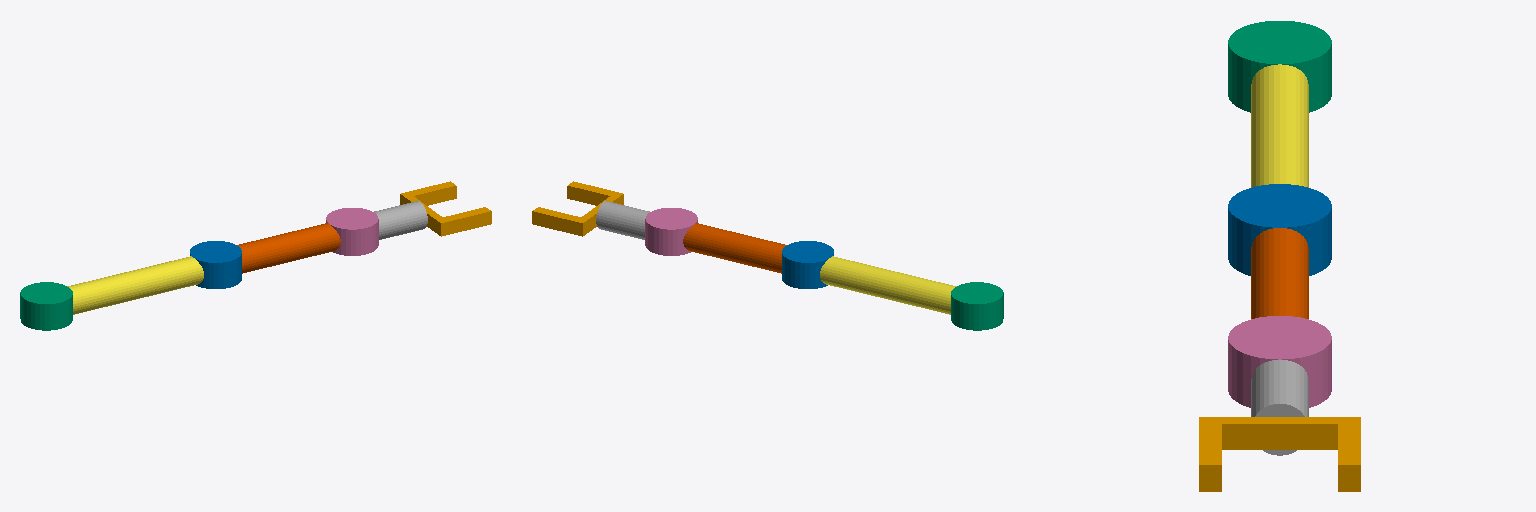
robot.urdf — manipulator2d:
<?xml version="1.0" ?>
<!-- =================================================================================== -->
<!-- |    This document was autogenerated by xacro from manipulator2d.xacro            | -->
<!-- |    EDITING THIS FILE BY HAND IS NOT RECOMMENDED                                 | -->
<!-- =================================================================================== -->
<!-- Manipulator 2D robot (based on Revolute-Revolute Manipulator) -->
<robot name="manipulator2d" xmlns:xacro="http://www.ros.org/wiki/xacro">
  <!--&lt;!&ndash; Import all Gazebo-customization elements, including Gazebo colors &ndash;&gt;-->
  <!--<xacro:include filename="$(find manipulator2d_description)/urdf/manipulator2d.gazebo" />-->
  <!--&lt;!&ndash; Import Rviz colors &ndash;&gt;-->
  <!--<xacro:include filename="$(find manipulator2d_description)/urdf/materials.xacro" />-->
  <!-- Used for fixing robot to Gazebo 'base_link' -->
  <link name="world"/>
  <!--<joint name="fixed" type="fixed">-->
  <!--<parent link="world"/>-->
  <!--<child link="link1"/>-->
  <!--<origin xyz="0 0 ${base_z}" rpy="0 0 0"/>-->
  <!--</joint>-->
  <joint name="fixed" type="fixed">
    <parent link="world"/>
    <child link="base_link"/>
    <origin rpy="0 0 0" xyz="0 0 0.0"/>
  </joint>
  <link name="base_link">
    <collision>
      <origin rpy="0 0 0" xyz="0 0 0.005"/>
      <geometry>
        <cylinder length="0.01" radius="0.01"/>
      </geometry>
    </collision>
    <visual>
      <origin rpy="0 0 0" xyz="0 0 0.005"/>
      <geometry>
        <cylinder length="0.01" radius="0.01"/>
      </geometry>
      <material name="black"/>
    </visual>
    <inertial>
      <origin rpy="0 0 0" xyz="0 0 0.005"/>
      <mass value="0.493230046614"/>
      <inertia ixx="1.64410015538e-05" ixy="0.0" ixz="0.0" iyy="1.64410015538e-05" iyz="0.0" izz="2.46615023307e-05"/>
    </inertial>
  </link>
  <joint name="joint0" type="revolute">
    <parent link="base_link"/>
    <child link="coupler0"/>
    <origin rpy="0 0 0" xyz="0 0 0.03"/>
    <limit effort="100.0" lower="-2.18" upper="2.18" velocity="0.5"/>
    <axis xyz="0 0 1"/>
    <dynamics damping="0.7"/>
  </joint>
  <link name="coupler0">
    <visual>
      <origin rpy="0 0 0" xyz="0 0 0"/>
      <geometry>
        <!--<sphere radius="${radius_axel}"/>-->
        <cylinder length="0.05" radius="0.045"/>
      </geometry>
      <material name="white"/>
    </visual>
    <inertial>
      <origin rpy="0 0 0" xyz="0 0 0"/>
      <mass value="0.001"/>
      <inertia ixx="1.0" ixy="0.0" ixz="0.0" iyy="1.0" iyz="0.0" izz="1.0"/>
    </inertial>
  </link>
  <joint name="coupler_joint0" type="fixed">
    <parent link="coupler0"/>
    <child link="link1"/>
    <origin rpy="0 0 0" xyz="0 0 0"/>
  </joint>
  <!-- Base Link -->
  <link name="link1">
    <collision>
      <origin rpy="1.57079632679 0 1.57079632679" xyz="0.15 0 0"/>
      <geometry>
        <cylinder length="0.3" radius="0.025"/>
      </geometry>
    </collision>
    <visual>
      <origin rpy="1.57079632679 0 1.57079632679" xyz="0.15 0 0"/>
      <geometry>
        <cylinder length="0.3" radius="0.025"/>
      </geometry>
      <material name="blue"/>
    </visual>
    <inertial>
      <origin rpy="1.57079632679 0 1.57079632679" xyz="0.15 0 0"/>
      <mass value="1.2723450247"/>
      <inertia ixx="0.00974139159539" ixy="0.0" ixz="0.0" iyy="0.00974139159539" iyz="0.0" izz="0.00039760782022"/>
    </inertial>
  </link>
  <!--<joint name="joint1" type="revolute">-->
  <!--<parent link="link1"/>-->
  <!--<child link="link2"/>-->
  <!--<origin xyz="${height1 + axel_offset} 0 0" rpy="0 0 0"/>-->
  <!--<limit effort="100.0" lower="-2.18" upper="2.18" velocity="0.5"/>-->
  <!--<axis xyz="0 0 1"/>-->
  <!--<dynamics damping="0.7"/>-->
  <!--</joint>-->
  <joint name="joint1" type="revolute">
    <parent link="link1"/>
    <child link="coupler1"/>
    <origin rpy="0 0 0" xyz="0.335 0 0"/>
    <limit effort="100.0" lower="-2.18" upper="2.18" velocity="0.5"/>
    <axis xyz="0 0 1"/>
    <dynamics damping="0.7"/>
  </joint>
  <link name="coupler1">
    <visual>
      <origin rpy="0 0 0" xyz="0 0 0"/>
      <geometry>
        <cylinder length="0.05" radius="0.045"/>
      </geometry>
      <material name="white"/>
    </visual>
    <inertial>
      <origin rpy="0 0 0" xyz="0 0 0"/>
      <mass value="0.001"/>
      <inertia ixx="1.0" ixy="0.0" ixz="0.0" iyy="1.0" iyz="0.0" izz="1.0"/>
    </inertial>
  </link>
  <joint name="coupler_joint1" type="fixed">
    <parent link="coupler1"/>
    <child link="link2"/>
    <origin rpy="0 0 0" xyz="0.035 0 0"/>
  </joint>
  <!--Middle Link-->
  <link name="link2">
    <collision>
      <origin rpy="1.57079632679 0 1.57079632679" xyz="0.1 0 0"/>
      <geometry>
        <cylinder length="0.2" radius="0.025"/>
      </geometry>
    </collision>
    <visual>
      <origin rpy="1.57079632679 0 1.57079632679" xyz="0.1 0 0"/>
      <geometry>
        <cylinder length="0.2" radius="0.025"/>
      </geometry>
      <material name="blue"/>
    </visual>
    <inertial>
      <origin rpy="1.57079632679 0 1.57079632679" xyz="0.1 0 0"/>
      <mass value="0.848230016469"/>
      <inertia ixx="0.00437368602242" ixy="0.0" ixz="0.0" iyy="0.00437368602242" iyz="0.0" izz="0.000265071880147"/>
    </inertial>
  </link>
  <!--<joint name="joint2" type="revolute">-->
  <!--<parent link="link2"/>-->
  <!--<child link="link3"/>-->
  <!--<origin xyz="${height2 + axel_offset*2} 0.1 0.1" rpy="0 0 0"/>-->
  <!--<limit effort="100.0" lower="-2.18" upper="2.18" velocity="0.5"/>-->
  <!--<axis xyz="0 0 1"/>-->
  <!--<dynamics damping="0.7"/>-->
  <!--</joint>-->
  <joint name="joint2" type="revolute">
    <parent link="link2"/>
    <child link="coupler2"/>
    <origin rpy="0 0 0" xyz="0.235 0 0"/>
    <limit effort="100.0" lower="-2.18" upper="2.18" velocity="0.5"/>
    <axis xyz="0 0 1"/>
    <dynamics damping="0.7"/>
  </joint>
  <link name="coupler2">
    <visual>
      <origin rpy="0 0 0" xyz="0 0 0"/>
      <geometry>
        <cylinder length="0.05" radius="0.045"/>
      </geometry>
      <material name="white"/>
    </visual>
    <inertial>
      <origin rpy="0 0 0" xyz="0 0 0"/>
      <mass value="0.001"/>
      <inertia ixx="1.0" ixy="0.0" ixz="0.0" iyy="1.0" iyz="0.0" izz="1.0"/>
    </inertial>
  </link>
  <joint name="coupler_joint2" type="fixed">
    <parent link="coupler2"/>
    <child link="link3"/>
    <origin rpy="0 0 0" xyz="0.035 0 0"/>
  </joint>
  <!--Top Link-->
  <link name="link3">
    <collision>
      <origin rpy="1.57079632679 0 1.57079632679" xyz="0.05 0 0"/>
      <geometry>
        <cylinder length="0.1" radius="0.025"/>
      </geometry>
    </collision>
    <visual>
      <origin rpy="1.57079632679 0 1.57079632679" xyz="0.05 0 0"/>
      <geometry>
        <cylinder length="0.1" radius="0.025"/>
      </geometry>
      <material name="blue"/>
    </visual>
    <inertial>
      <origin rpy="1.57079632679 0 1.57079632679" xyz="0.05 0 0"/>
      <mass value="0.424115008235"/>
      <inertia ixx="0.00112655549062" ixy="0.0" ixz="0.0" iyy="0.00112655549062" iyz="0.0" izz="0.000132535940073"/>
    </inertial>
  </link>
  <joint name="gripper_joint" type="fixed">
    <parent link="link3"/>
    <child link="gripper"/>
    <origin rpy="0 0 0" xyz="0.1 0 0"/>
  </joint>
  <link name="gripper">
    <visual>
      <origin rpy="1.57079632679 0 1.57079632679" xyz="0.0075 0 0"/>
      <geometry>
        <box size="0.14 0.025 0.015"/>
      </geometry>
      <material name="white"/>
    </visual>
    <visual>
      <origin rpy="1.57079632679 0 1.57079632679" xyz="0.0575 0.06 0"/>
      <geometry>
        <box size="0.02 0.025 0.085"/>
      </geometry>
      <material name="white"/>
    </visual>
    <visual>
      <origin rpy="1.57079632679 0 1.57079632679" xyz="0.0575 -0.06 0"/>
      <geometry>
        <box size="0.02 0.025 0.085"/>
      </geometry>
      <material name="white"/>
    </visual>
    <collision>
      <origin rpy="1.57079632679 0 1.57079632679" xyz="0.0075 0 0"/>
      <geometry>
        <box size="0.14 0.025 0.015"/>
      </geometry>
      <material name="white"/>
    </collision>
    <collision>
      <origin rpy="1.57079632679 0 1.57079632679" xyz="0.0575 0.06 0"/>
      <geometry>
        <box size="0.02 0.025 0.085"/>
      </geometry>
      <material name="white"/>
    </collision>
    <collision>
      <origin rpy="1.57079632679 0 1.57079632679" xyz="0.0575 -0.06 0"/>
      <geometry>
        <box size="0.02 0.025 0.085"/>
      </geometry>
      <material name="white"/>
    </collision>
    <inertial>
      <origin rpy="0 0 0" xyz="0 0 0"/>
      <mass value="0.1"/>
      <inertia ixx="1.0" ixy="0.0" ixz="0.0" iyy="1.0" iyz="0.0" izz="1.0"/>
    </inertial>
  </link>
  <joint name="gripper_center_joint" type="fixed">
    <parent link="gripper"/>
    <child link="gripper_center"/>
    <origin rpy="0 0 0" xyz="0.06 0 0"/>
  </joint>
  <link name="gripper_center">
    <!--<visual>-->
    <!--<origin xyz="0 0 0" rpy="0 0 0"/>-->
    <!--<geometry>-->
    <!--<cylinder length="${height_axel}" radius="${radius_axel}"/>-->
    <!--</geometry>-->
    <!--<material name="white"/>-->
    <!--</visual>-->
    <inertial>
      <origin rpy="0 0 0" xyz="0 0 0"/>
      <mass value="0.001"/>
      <inertia ixx="1.0" ixy="0.0" ixz="0.0" iyy="1.0" iyz="0.0" izz="1.0"/>
    </inertial>
  </link>
  <!--<joint name="hokuyo_joint" type="fixed">-->
  <!--<axis xyz="0 1 0" />-->
  <!--<origin xyz="0 0 ${height3 - axel_offset/2}" rpy="0 0 0"/>-->
  <!--<parent link="link3"/>-->
  <!--<child link="hokuyo_link"/>-->
  <!--</joint>-->
  <!--&lt;!&ndash; Hokuyo Laser &ndash;&gt;-->
  <!--<link name="hokuyo_link">-->
  <!--<collision>-->
  <!--<origin xyz="0 0 0" rpy="0 0 0"/>-->
  <!--<geometry>-->
  <!--<box size="0.1 0.1 0.1"/>-->
  <!--</geometry>-->
  <!--</collision>-->
  <!--<visual>-->
  <!--<origin xyz="0 0 0" rpy="0 0 0"/>-->
  <!--<geometry>-->
  <!--<mesh filename="package://manipulator2d_description/meshes/hokuyo.dae"/>-->
  <!--</geometry>-->
  <!--</visual>-->
  <!--<inertial>-->
  <!--<mass value="1e-5" />-->
  <!--<origin xyz="0 0 0" rpy="0 0 0"/>-->
  <!--<inertia ixx="1e-6" ixy="0" ixz="0" iyy="1e-6" iyz="0" izz="1e-6" />-->
  <!--</inertial>-->
  <!--</link>-->
  <!--<joint name="camera_joint" type="fixed">-->
  <!--<axis xyz="0 1 0" />-->
  <!--<origin xyz="${camera_x} ${camera_y} ${camera_z}" rpy="0 ${PI/2} ${PI/2}"/>-->
  <!--<parent link="base_link"/>-->
  <!--<child link="camera_link"/>-->
  <!--</joint>-->
  <!-- Camera -->
  <!--<link name="camera_link">-->
  <!--&lt;!&ndash;<collision>&ndash;&gt;-->
  <!--&lt;!&ndash;<origin xyz="0 0 0" rpy="0 0 0"/>&ndash;&gt;-->
  <!--&lt;!&ndash;<geometry>&ndash;&gt;-->
  <!--&lt;!&ndash;<box size="${camera_link} ${camera_link} ${camera_link}"/>&ndash;&gt;-->
  <!--&lt;!&ndash;</geometry>&ndash;&gt;-->
  <!--&lt;!&ndash;</collision>&ndash;&gt;-->
  <!--&lt;!&ndash;<visual>&ndash;&gt;-->
  <!--&lt;!&ndash;<origin xyz="0 0 0" rpy="0 0 0"/>&ndash;&gt;-->
  <!--&lt;!&ndash;<geometry>&ndash;&gt;-->
  <!--&lt;!&ndash;<box size="${camera_link} ${camera_link} ${camera_link}"/>&ndash;&gt;-->
  <!--&lt;!&ndash;</geometry>&ndash;&gt;-->
  <!--&lt;!&ndash;<material name="red"/>&ndash;&gt;-->
  <!--&lt;!&ndash;</visual>&ndash;&gt;-->
  <!--&lt;!&ndash;<inertial>&ndash;&gt;-->
  <!--&lt;!&ndash;<mass value="1e-5" />&ndash;&gt;-->
  <!--&lt;!&ndash;<origin xyz="0 0 0" rpy="0 0 0"/>&ndash;&gt;-->
  <!--&lt;!&ndash;<inertia ixx="1e-6" ixy="0" ixz="0" iyy="1e-6" iyz="0" izz="1e-6" />&ndash;&gt;-->
  <!--&lt;!&ndash;</inertial>&ndash;&gt;-->
  <!--</link>-->
  <!-- generate an optical frame http://www.ros.org/reps/rep-0103.html#suffix-frames
      so that ros and opencv can operate on the camera frame correctly -->
  <!--<joint name="camera_optical_joint" type="fixed">-->
  <!--&lt;!&ndash; these values have to be these values otherwise the gazebo camera image-->
  <!--won't be aligned properly with the frame it is supposedly originating from &ndash;&gt;-->
  <!--<origin xyz="0 0 0" rpy="${-pi/2} 0 ${-pi/2}"/>-->
  <!--<parent link="camera_link"/>-->
  <!--<child link="camera_link_optical"/>-->
  <!--</joint>-->
  <!--<link name="camera_link_optical">-->
  <!--</link>-->
  <transmission name="tran0">
    <type>transmission_interface/SimpleTransmission</type>
    <joint name="joint0">
      <hardwareInterface>hardware_interface/EffortJointInterface</hardwareInterface>
    </joint>
    <actuator name="motor0">
      <hardwareInterface>hardware_interface/EffortJointInterface</hardwareInterface>
      <mechanicalReduction>1</mechanicalReduction>
    </actuator>
  </transmission>
  <transmission name="tran1">
    <type>transmission_interface/SimpleTransmission</type>
    <joint name="joint1">
      <hardwareInterface>hardware_interface/EffortJointInterface</hardwareInterface>
    </joint>
    <actuator name="motor1">
      <hardwareInterface>hardware_interface/EffortJointInterface</hardwareInterface>
      <mechanicalReduction>1</mechanicalReduction>
    </actuator>
  </transmission>
  <transmission name="tran2">
    <type>transmission_interface/SimpleTransmission</type>
    <joint name="joint2">
      <hardwareInterface>hardware_interface/EffortJointInterface</hardwareInterface>
    </joint>
    <actuator name="motor2">
      <hardwareInterface>hardware_interface/EffortJointInterface</hardwareInterface>
      <mechanicalReduction>1</mechanicalReduction>
    </actuator>
  </transmission>
</robot>

--- Render facts (derived) ---
The picture shows the robot from 3 angles, left to right: view 1: azimuth 30°, elevation 25°; view 2: azimuth 150°, elevation 25°; view 3: azimuth 270°, elevation 25°; orthographic projection.
Model manipulator2d with 10 links and 9 joints (3 revolute, 6 fixed), rooted at world, posed every joint at zero.
Visible links, largest first — view 1: link1, link2, coupler0, gripper, coupler2, coupler1, link3; view 2: link1, link2, coupler0, gripper, coupler2, coupler1, link3; view 3: gripper, link1, coupler1, coupler2, coupler0, link2, link3.
Link boxes in pixels (left/top/right/bottom): link1: left=67, top=256, right=203, bottom=314; link2: left=237, top=223, right=340, bottom=273; coupler0: left=20, top=282, right=72, bottom=330; gripper: left=400, top=181, right=491, bottom=236; coupler2: left=326, top=208, right=378, bottom=255; coupler1: left=190, top=241, right=241, bottom=288; link3: left=374, top=201, right=427, bottom=239; link1: left=820, top=256, right=956, bottom=314; link2: left=683, top=223, right=786, bottom=273; coupler0: left=951, top=282, right=1003, bottom=330; gripper: left=532, top=181, right=623, bottom=236; coupler2: left=645, top=208, right=697, bottom=255; coupler1: left=782, top=241, right=833, bottom=288; link3: left=596, top=201, right=649, bottom=239; gripper: left=1199, top=417, right=1360, bottom=491; link1: left=1251, top=64, right=1308, bottom=187; coupler1: left=1228, top=184, right=1331, bottom=275; coupler2: left=1228, top=316, right=1331, bottom=407; coupler0: left=1228, top=21, right=1331, bottom=112; link2: left=1251, top=228, right=1308, bottom=318; link3: left=1251, top=360, right=1308, bottom=455.
Bounding box of the posed robot: 0.885 × 0.14 × 0.055 m (x, y, z).
Geometry: primitives only (box / cylinder / sphere), no mesh files.
